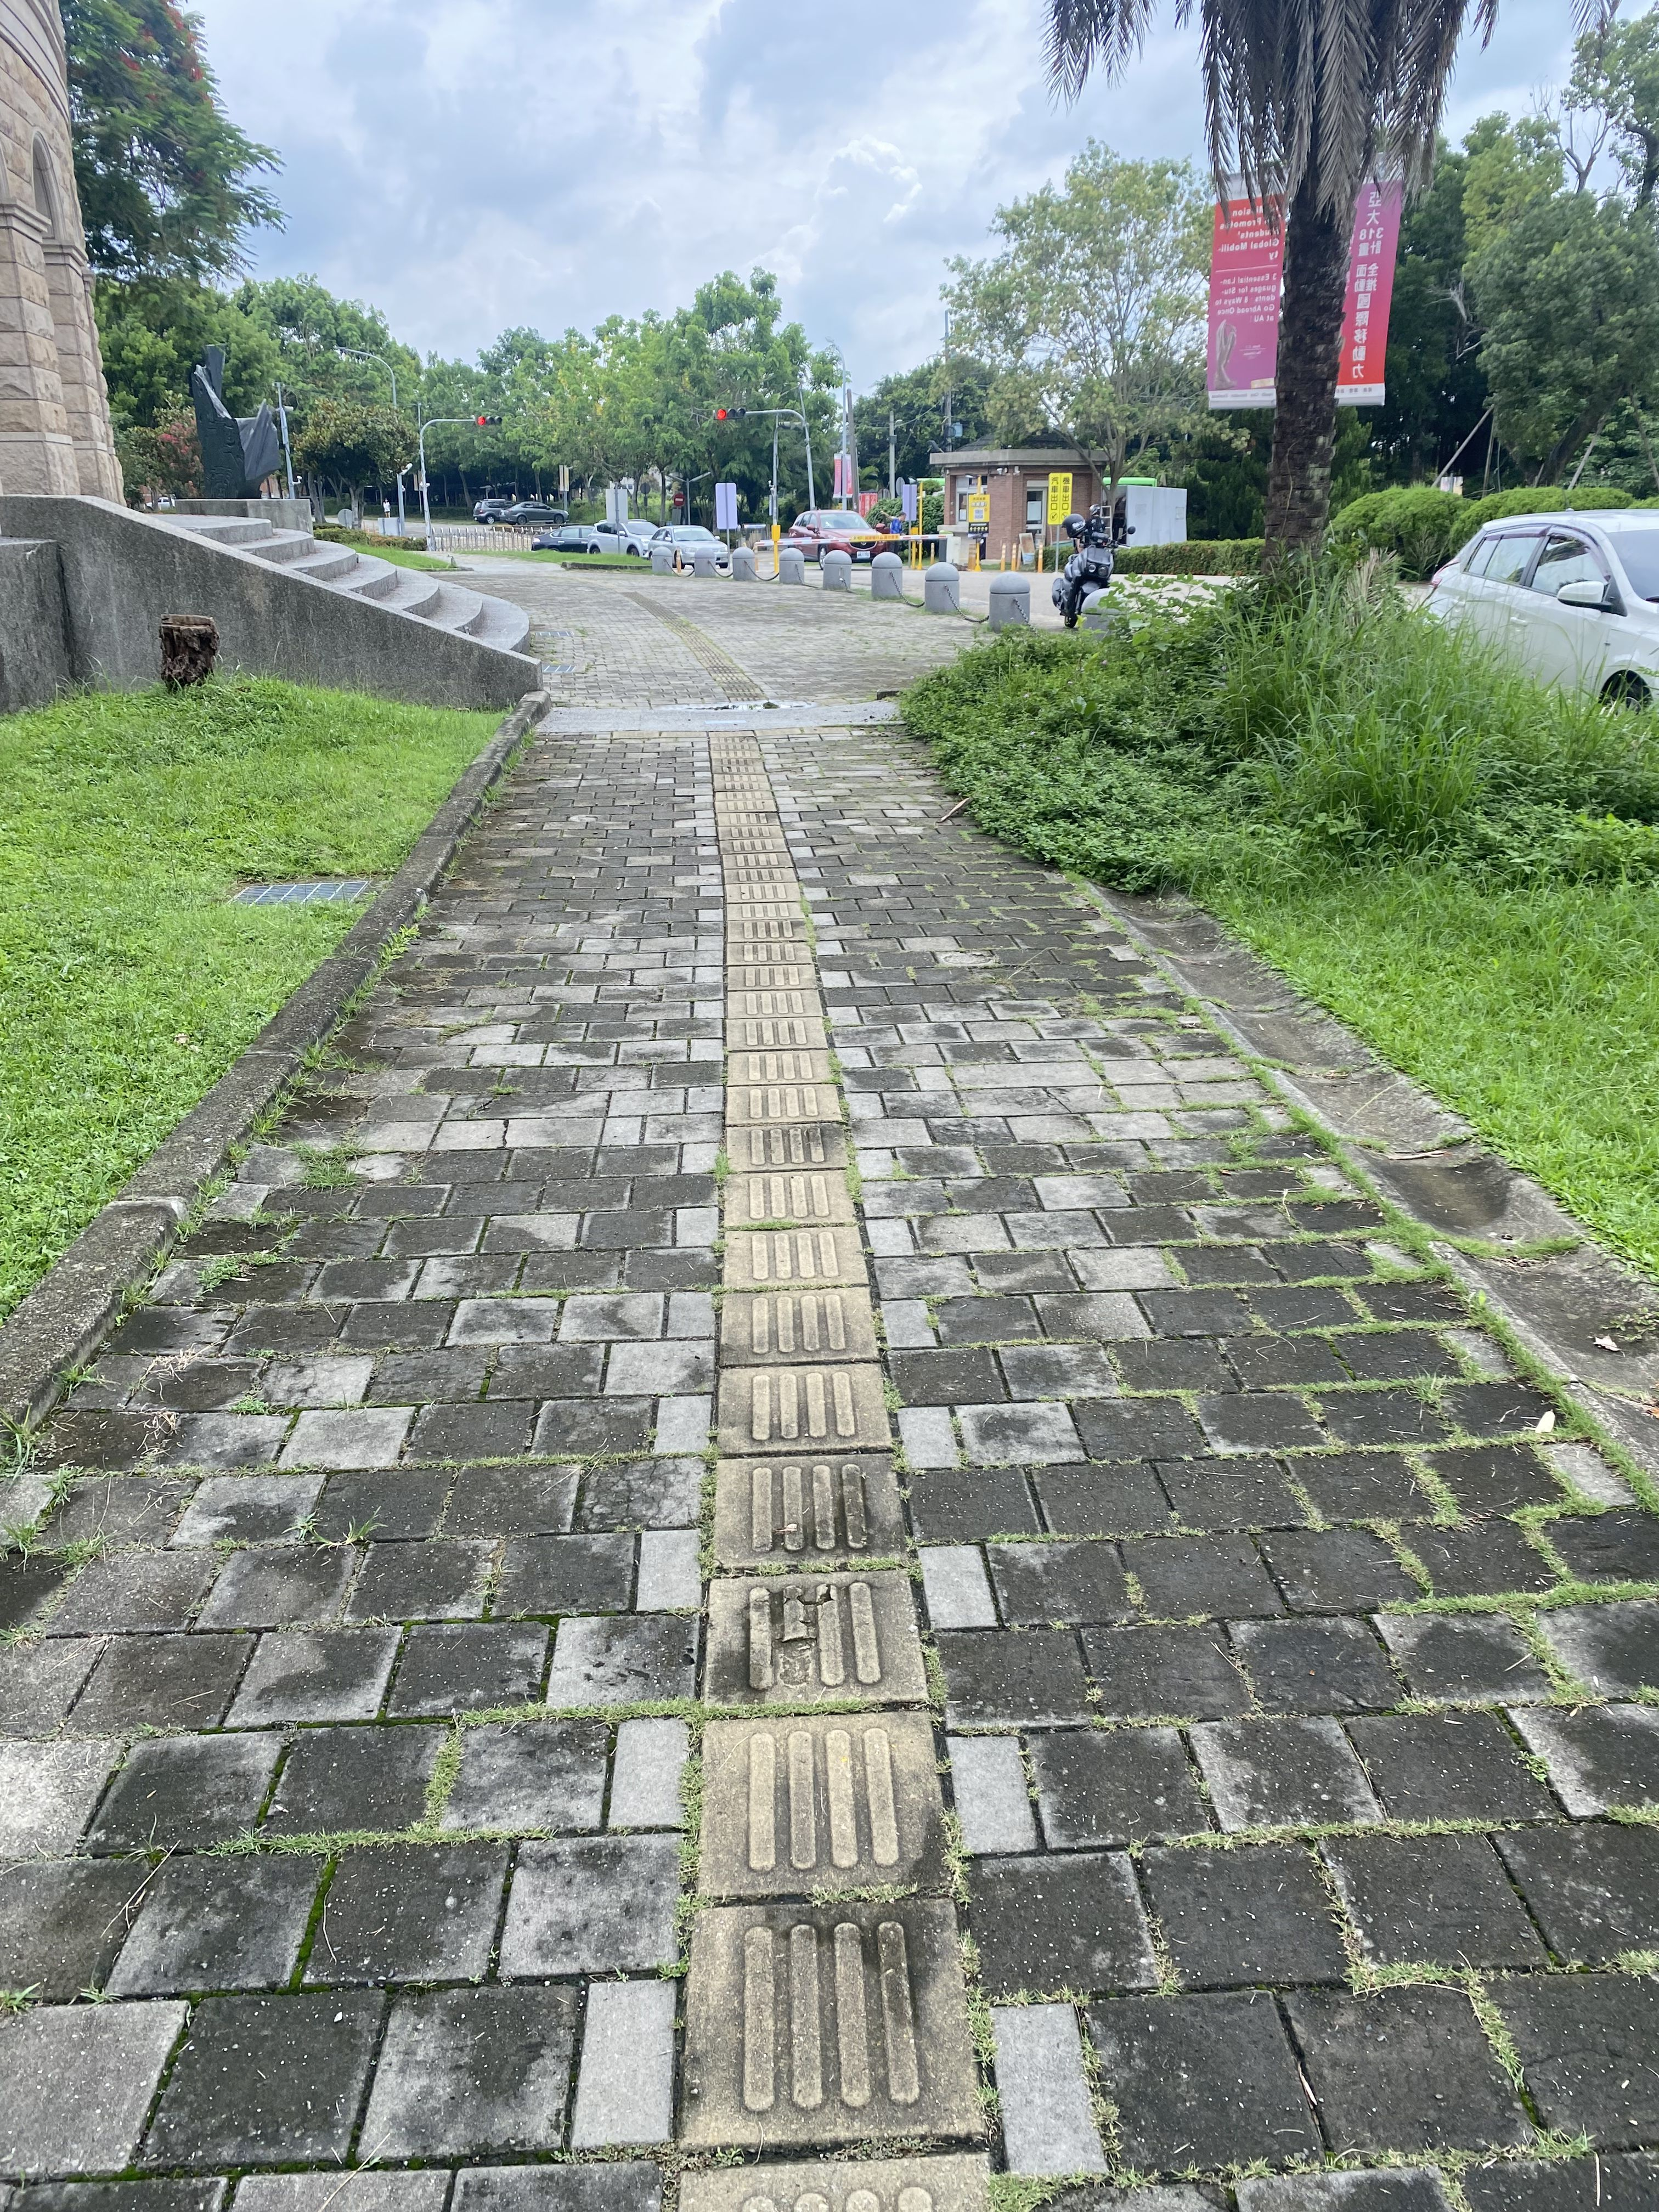0: (10, 791, 1659, 2212)
sidewalk: (458, 550, 1026, 984)
